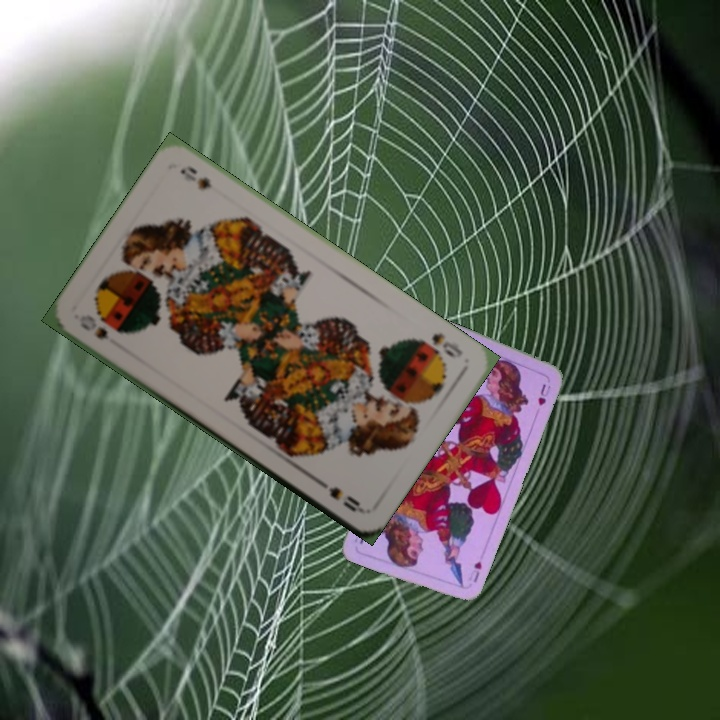HU: (469, 557, 485, 585)
SO: (416, 329, 466, 361), (75, 310, 111, 342)
